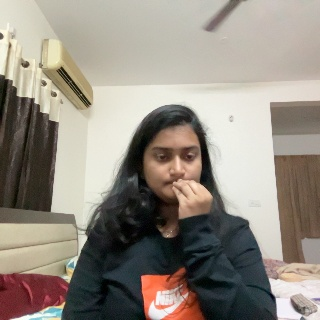Food: (171, 175, 217, 246)
